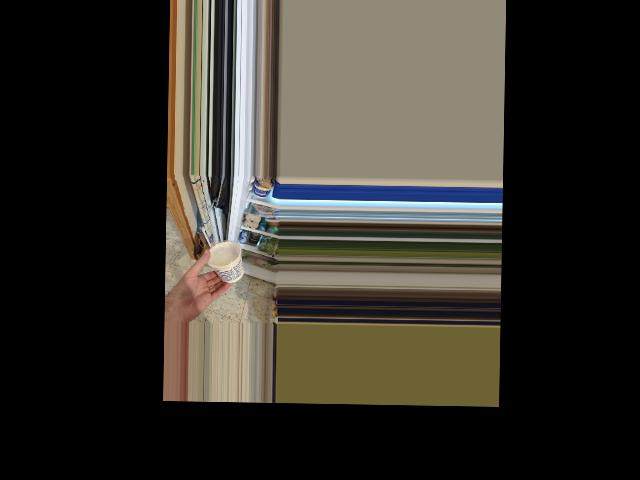cotage: (208, 240, 241, 283)
